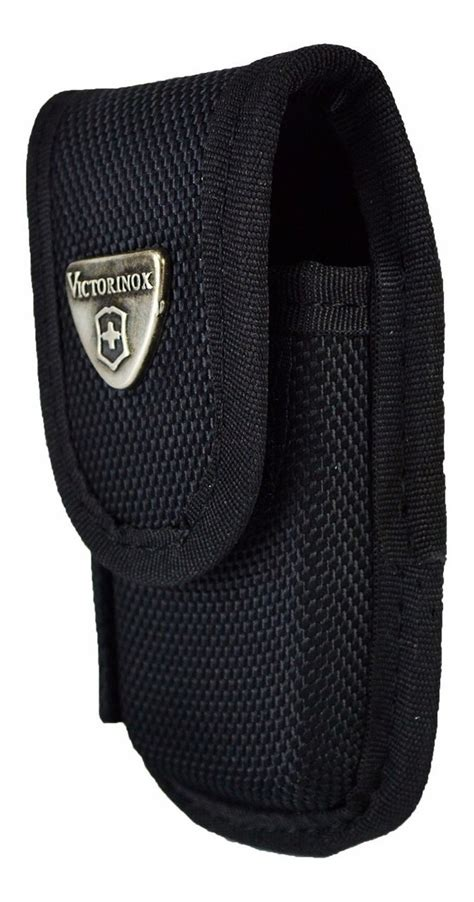nylon: (26, 43, 445, 858)
